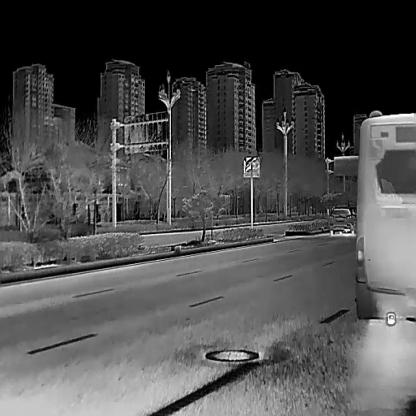bus: (354, 108, 416, 326)
car: (327, 205, 357, 235)
